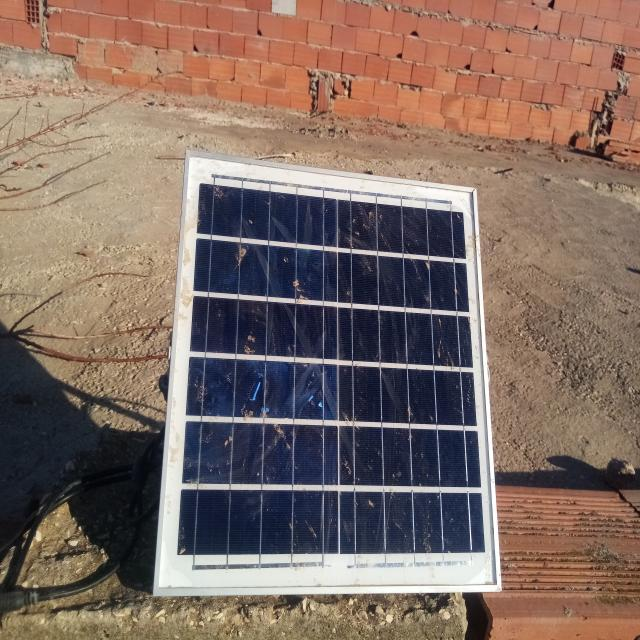faulty: (155, 152, 502, 596)
